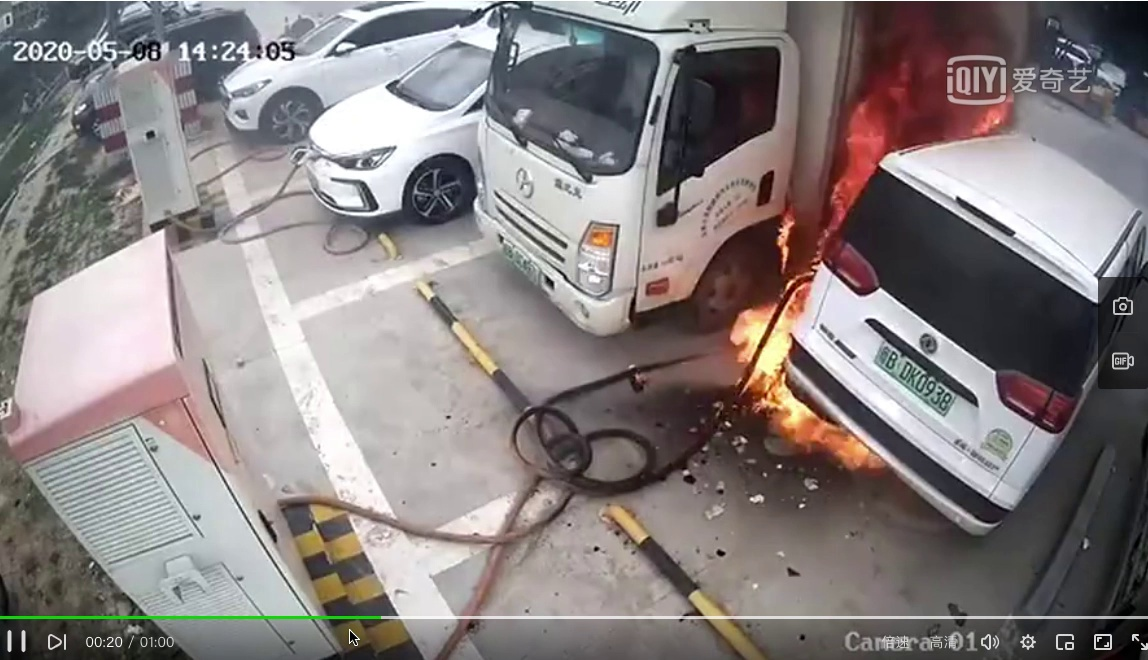fire: (728, 265, 843, 467)
